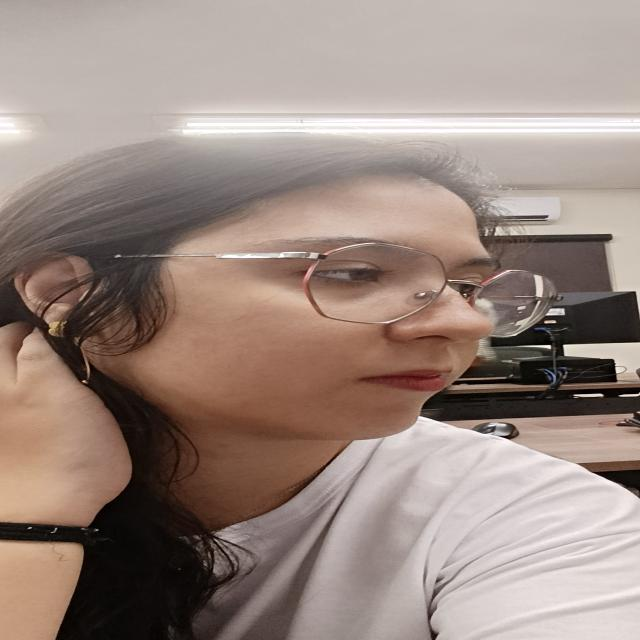sem_oculos: (113, 242, 560, 337)
